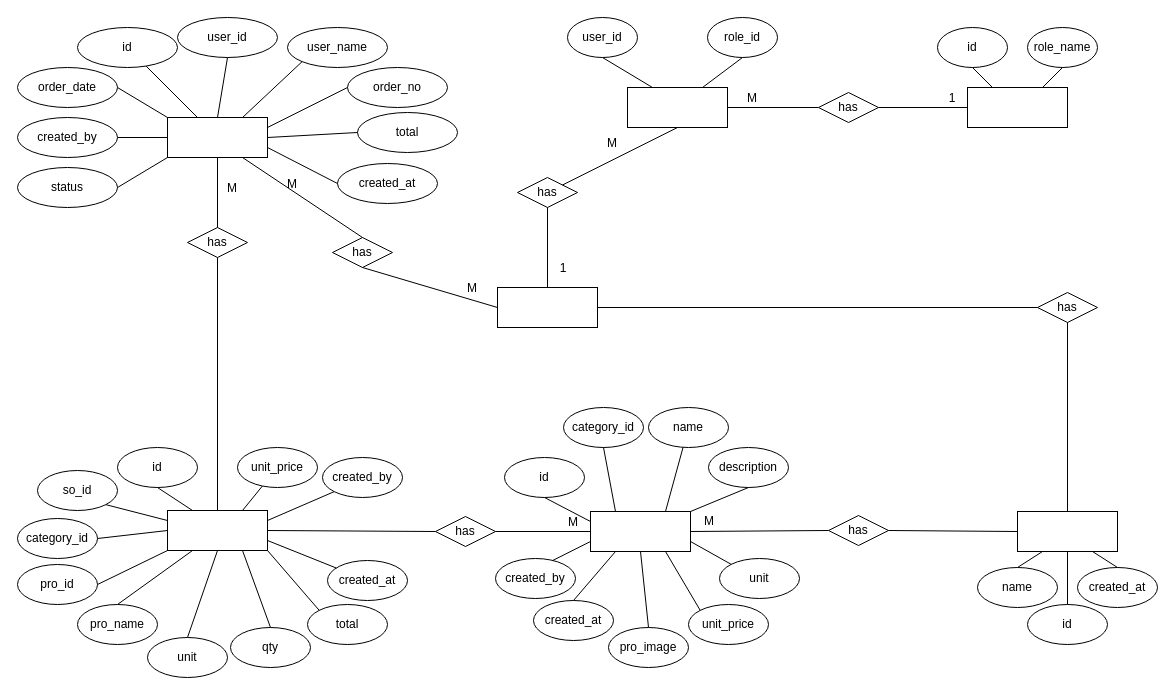
This 1175x695 diagram has some shape labels left out. The shapes that lost their labels are listed below. From the top down, each one's centre as x and y in pixels, then its label:
At point (677, 107): "user_roles".
At point (1017, 107): "roles".
At point (217, 137): "order".
At point (547, 307): "users".
At point (217, 530): "order_dtl".
At point (640, 531): "products".
At point (1067, 531): "category".
